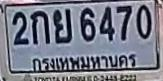0: (136, 4, 151, 39)
2: (12, 11, 28, 44)
4: (99, 6, 114, 40)
6: (79, 7, 94, 40)
7: (115, 5, 132, 40)
A01: (30, 10, 49, 44)
A34: (52, 8, 71, 43)
